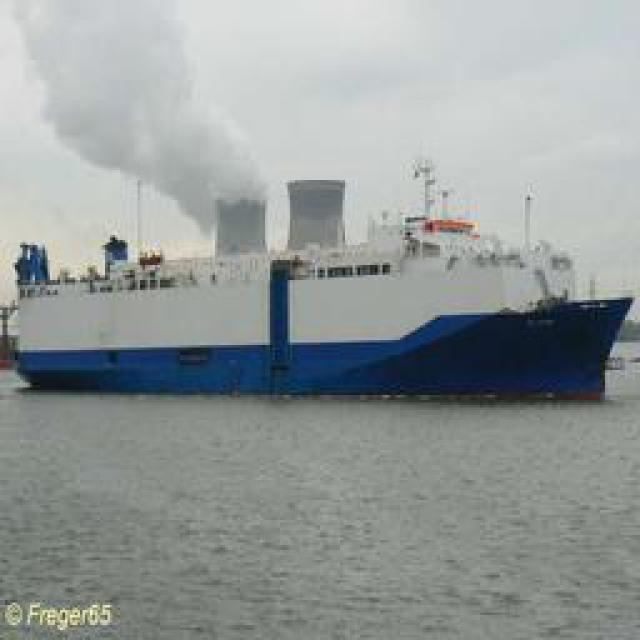Ship: (11, 165, 631, 403)
